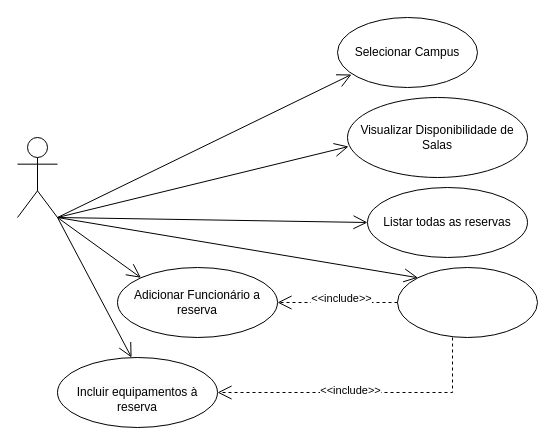
This 555x445 diagram has some shape labels left out. The centre of each missing label's shape, as x and y in pixels:
Fazer Reserva: the point at 467,302
Usuário: the point at 37,177
